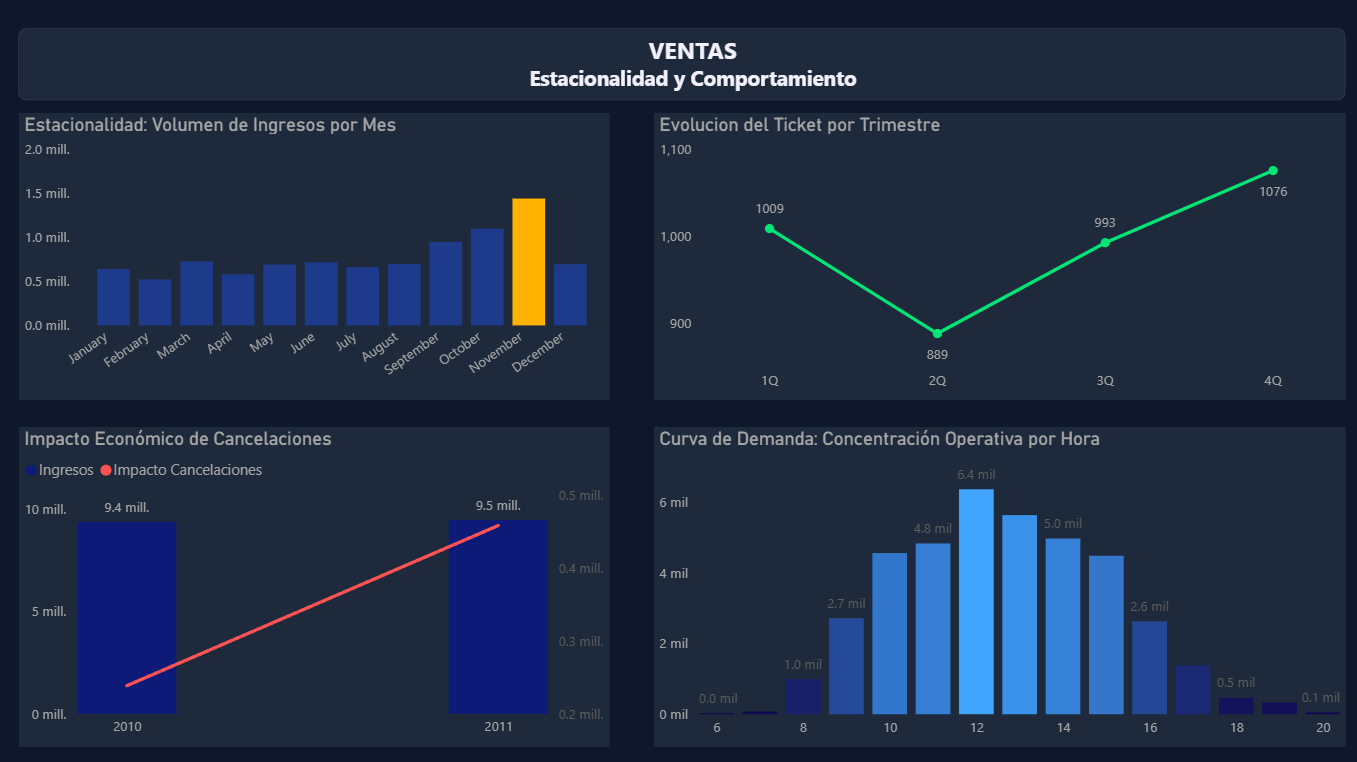

This screenshot's page, from the dashboard's own definition file:
{"tool":"powerbi","page":{"name":"Página 2","canvas":[1280,720],"ordinal":1},"visuals":[{"type":"shape","box":[33,47.9,1207,66],"z":0},{"type":"textbox","box":[42.9,48.1,1207.1,65.7],"z":1000},{"type":"clusteredColumnChart","title":"Estacionalidad: Volumen de Ingresos por Mes","fields":{"Category":["Consulta5.mes_nombre"],"Y":["Avg(Consulta5.ingresos_mes)"]},"box":[33.3,125.6,536.7,261.1],"z":2000},{"type":"lineChart","title":"Evolucion del Ticket por Trimestre","fields":{"Category":["Consulta6.TrimestreQ"],"Y":["Sum(Consulta6.ticket_promedio)"]},"box":[611.1,125.6,628.9,261.1],"z":3000},{"type":"lineStackedColumnComboChart","title":"Impacto Económico de Cancelaciones","fields":{"Category":["Consulta7.anio"],"Y":["Avg(Consulta7.ingresos_ventas)"],"Y2":["Sum(Consulta7.impacto_cancelaciones)"]},"box":[33.3,411.1,536.7,291.1],"z":4000},{"type":"clusteredColumnChart","title":"Curva de Demanda: Concentración Operativa por Hora","fields":{"Category":["Consulta8.hora_dia"],"Y":["Avg(Consulta8.pedidos)"]},"box":[611.1,411.1,628.9,291.1],"z":5000}]}

Visuals, with their boxes in screenshot pixels (x1, y1, x2, y2), scaled from the page's 1280x720 canvas onto the 1357x762 screenshot:
shape: x1=35, y1=51, x2=1315, y2=121
textbox: x1=45, y1=51, x2=1325, y2=120
"Estacionalidad: Volumen de Ingresos por Mes" clusteredColumnChart: x1=35, y1=133, x2=604, y2=409
"Evolucion del Ticket por Trimestre" lineChart: x1=648, y1=133, x2=1315, y2=409
"Impacto Económico de Cancelaciones" lineStackedColumnComboChart: x1=35, y1=435, x2=604, y2=743
"Curva de Demanda: Concentración Operativa por Hora" clusteredColumnChart: x1=648, y1=435, x2=1315, y2=743
